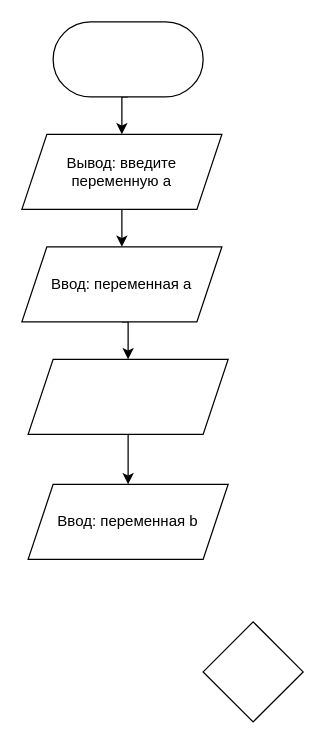
The diagram is 325 pixels wide and 744 high, and some of its shapes have lost their labels. Each missing label, with the box of its shape:
Вывод: введите переменную b: (27, 358, 228, 434)
Начало: (52, 21, 203, 97)
